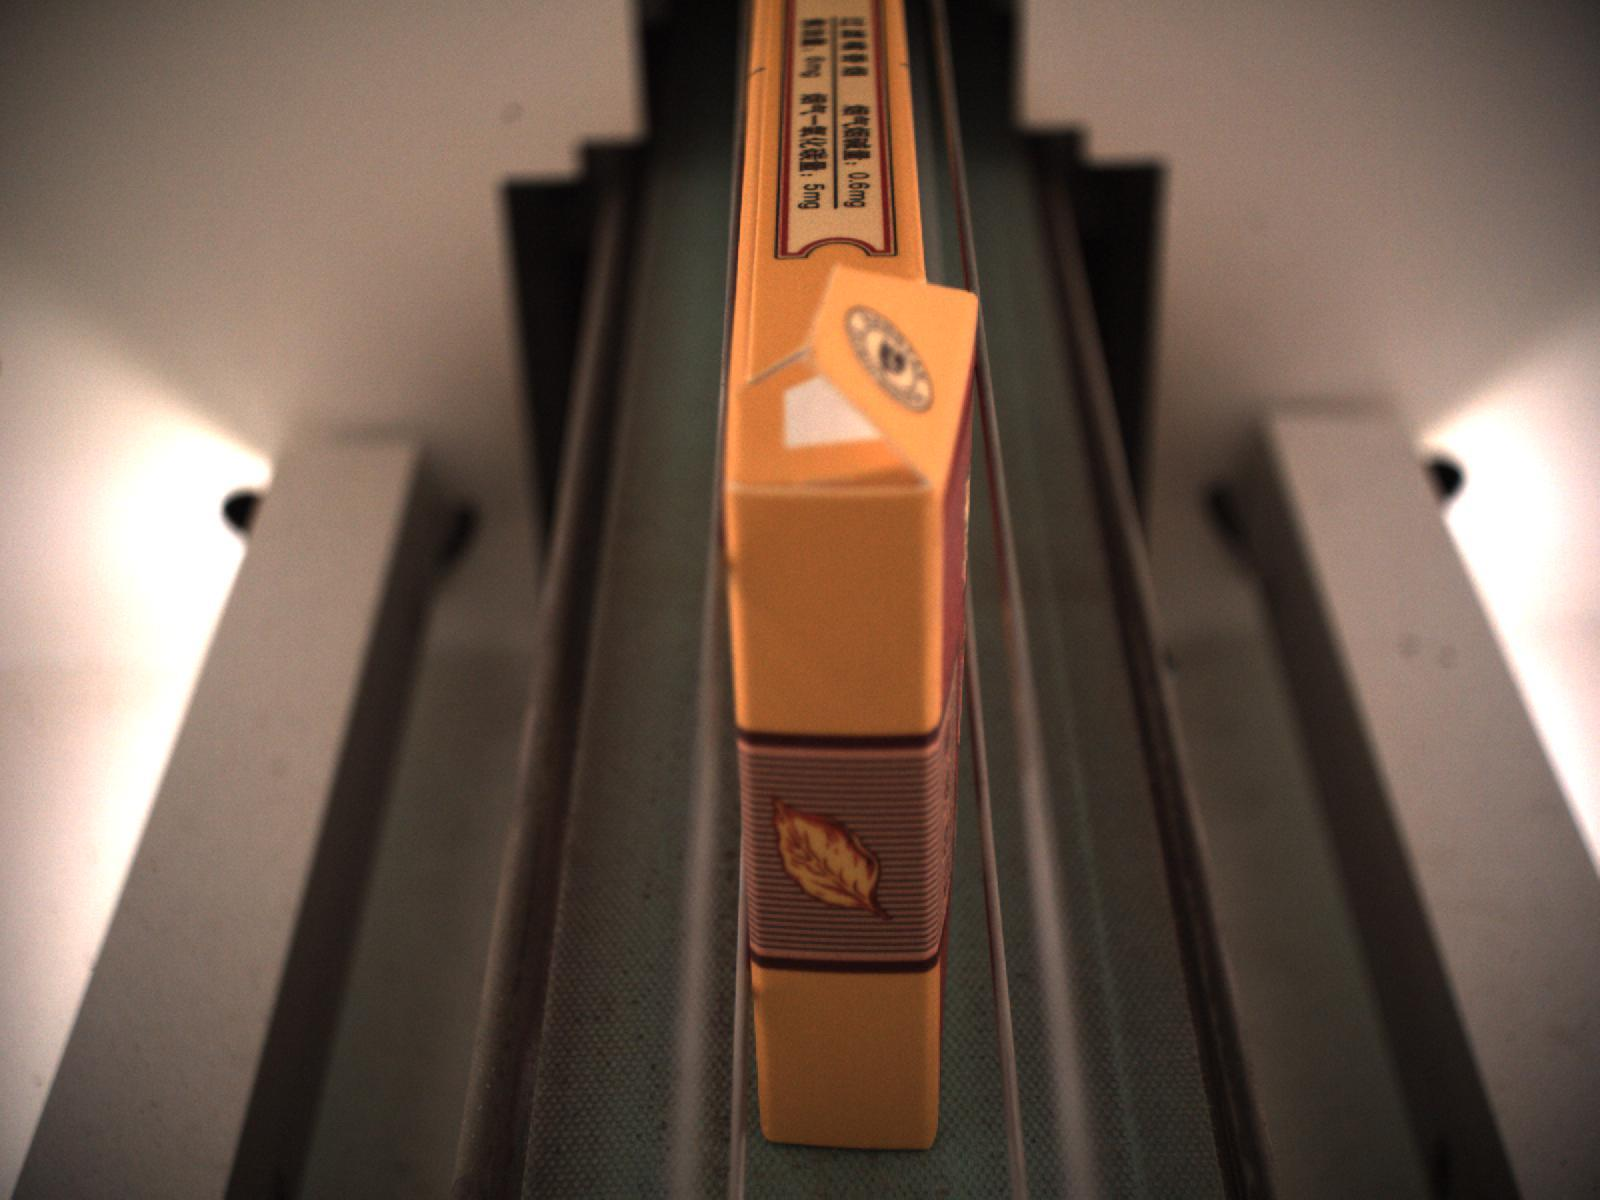headDamage_upper_2: (721, 262, 984, 496)
